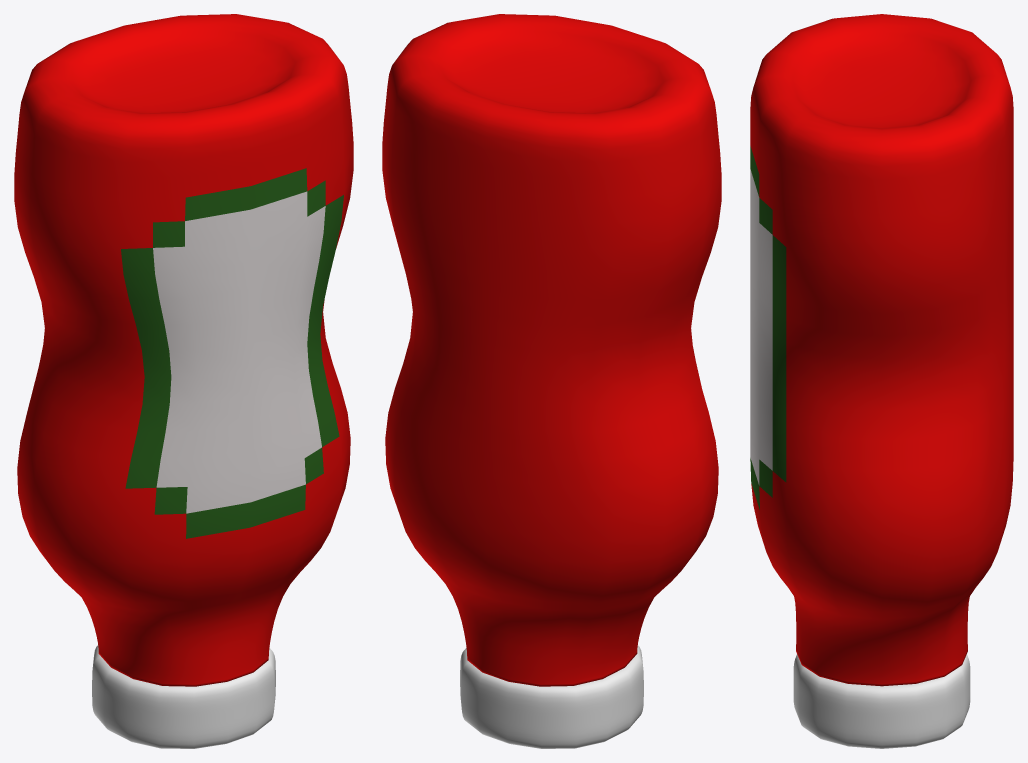
Rendered from ketchup.fbx.
3 renders of one model, left to right at view 1: azimuth 30°, elevation 25°; view 2: azimuth 150°, elevation 25°; view 3: azimuth 270°, elevation 25°, orthographic.
Parts seen in each view (by area): view 1: ketchup; view 2: ketchup; view 3: ketchup.
Boxes of the visible parts, left/top/right/bottom form: ketchup: left=14, top=14, right=353, bottom=748; ketchup: left=382, top=14, right=721, bottom=748; ketchup: left=750, top=14, right=1013, bottom=748.
Bounding box in the file's own units: 117 × 236 × 88.
